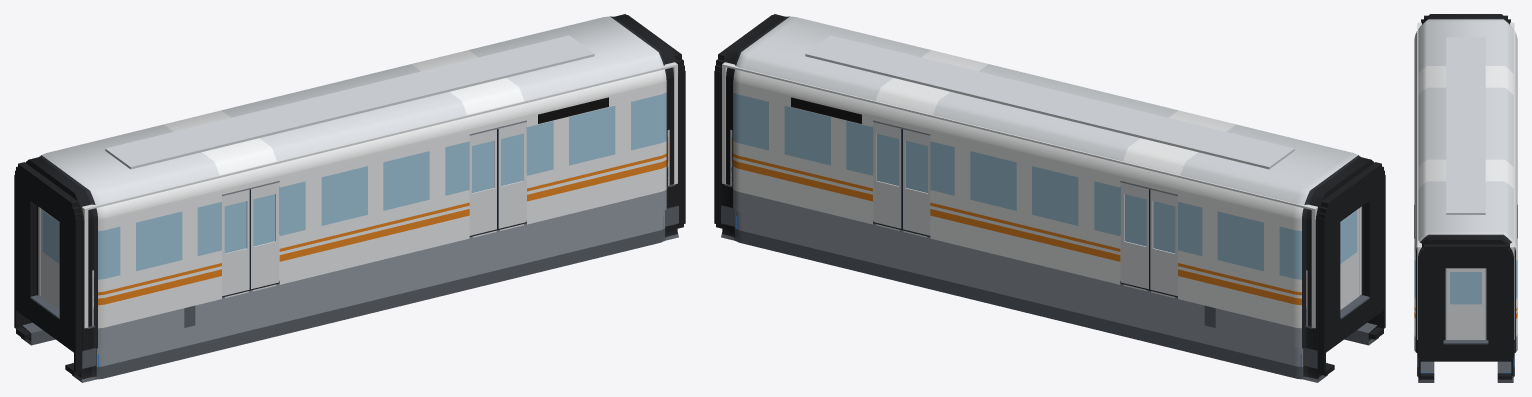
Rendered from linimo_car.obj.
3 renders of one model, left to right at view 1: azimuth 30°, elevation 25°; view 2: azimuth 150°, elevation 25°; view 3: azimuth 270°, elevation 25°, orthographic. The views are drawn at different scales.
Parts seen in each view (by area): view 1: SHELL, SHELL_roof, SHELL_diaphragm, EXTERNAL_DOOR_10_CG_DR2_TOGGLE_TL_-0.59_X, EXTERNAL_DOOR_4_CG_DR1_TOGGLE_TL_-0.59_X, EXTERNAL_DOOR_11_CG_DR2_TOGGLE_TL_0.59_X, EXTERNAL_DOOR_5_CG_DR1_TOGGLE_TL_0.59_X, SHELL_ceiling, CONNECTING_DOOR_1_CG_CR_TOGGLE_TL_0.98_Z, SHELL_end, SHELL_sign; view 2: SHELL, SHELL_roof, SHELL_diaphragm, EXTERNAL_DOOR_13_CG_DL2_TOGGLE_TL_-0.59_X, EXTERNAL_DOOR_7_CG_DL1_TOGGLE_TL_-0.59_X, EXTERNAL_DOOR_14_CG_DL2_TOGGLE_TL_0.59_X, EXTERNAL_DOOR_8_CG_DL1_TOGGLE_TL_0.59_X, SHELL_ceiling, CONNECTING_DOOR_1_CG_CR_TOGGLE_TL_0.98_Z, SHELL_end, SHELL_sign; view 3: SHELL, SHELL_diaphragm, SHELL_roof, CONNECTING_DOOR_2_CG_CF_TOGGLE_TL_0.98_Z, SHELL_ceiling, SHELL_floor, SHELL_end, SHELL_gangway.
Boxes of the visible parts, x1,y1,x2,y2 form: SHELL: (21,14,679,382); SHELL_roof: (105,35,594,169); SHELL_diaphragm: (14,15,685,375); EXTERNAL_DOOR_10_CG_DR2_TOGGLE_TL_-0.59_X: (469,129,498,235); EXTERNAL_DOOR_4_CG_DR1_TOGGLE_TL_-0.59_X: (222,189,250,296); EXTERNAL_DOOR_11_CG_DR2_TOGGLE_TL_0.59_X: (498,122,526,228); EXTERNAL_DOOR_5_CG_DR1_TOGGLE_TL_0.59_X: (251,182,278,289); SHELL_ceiling: (85,63,674,209); CONNECTING_DOOR_1_CG_CR_TOGGLE_TL_0.98_Z: (40,208,59,309); SHELL_end: (38,62,677,328); SHELL_sign: (538,97,608,123); SHELL: (720,14,1378,382); SHELL_roof: (805,35,1294,169); SHELL_diaphragm: (714,15,1385,375); EXTERNAL_DOOR_13_CG_DL2_TOGGLE_TL_-0.59_X: (901,129,930,235); EXTERNAL_DOOR_7_CG_DL1_TOGGLE_TL_-0.59_X: (1149,189,1177,296); EXTERNAL_DOOR_14_CG_DL2_TOGGLE_TL_0.59_X: (873,122,901,228); EXTERNAL_DOOR_8_CG_DL1_TOGGLE_TL_0.59_X: (1121,182,1148,289); SHELL_ceiling: (725,63,1314,210); CONNECTING_DOOR_1_CG_CR_TOGGLE_TL_0.98_Z: (1340,208,1359,309); SHELL_end: (722,62,1361,328); SHELL_sign: (791,97,861,123); SHELL: (1414,14,1517,382); SHELL_diaphragm: (1418,15,1513,379); SHELL_roof: (1446,37,1485,214); CONNECTING_DOOR_2_CG_CF_TOGGLE_TL_0.98_Z: (1446,268,1485,339); SHELL_ceiling: (1417,23,1514,246); SHELL_floor: (1445,268,1486,338); SHELL_end: (1417,22,1514,339); SHELL_gangway: (1443,338,1488,343).
Size of the model in its own units: 13.82 by 4.03 by 2.62.
Materials: 1 (1 with a texture image).
